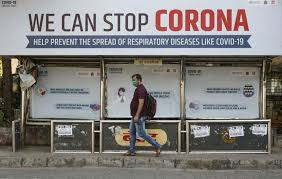mask: (130, 73, 143, 88)
